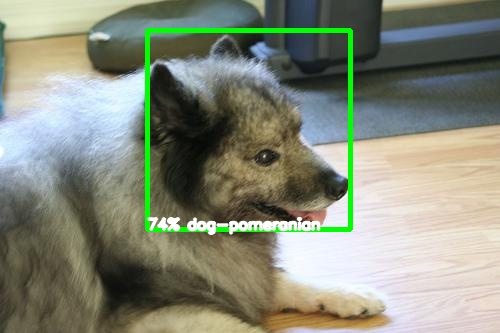dog-keeshond: (145, 34, 350, 231)
